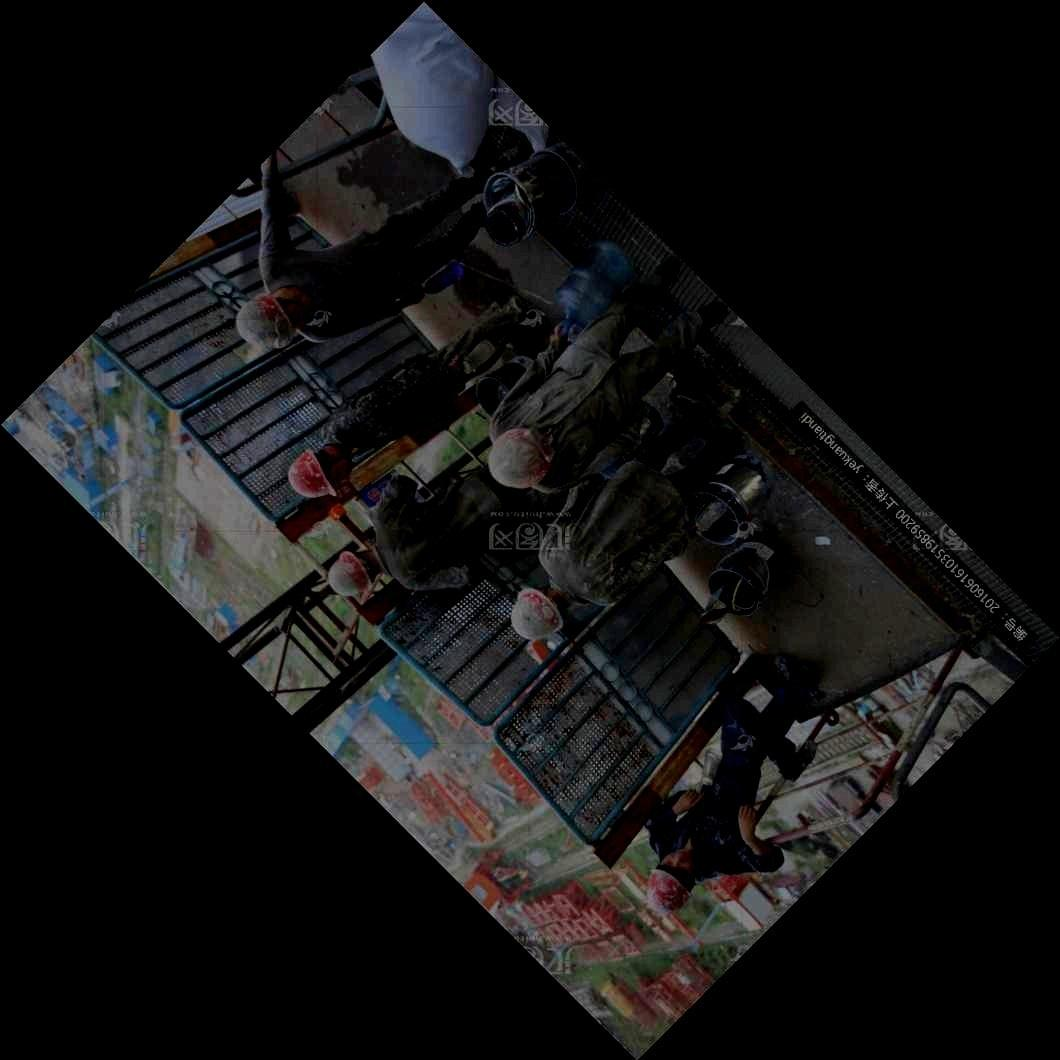helmet: (235, 284, 312, 349), (487, 423, 555, 488), (287, 440, 354, 497), (645, 846, 700, 913), (510, 581, 572, 640), (327, 547, 382, 597)
